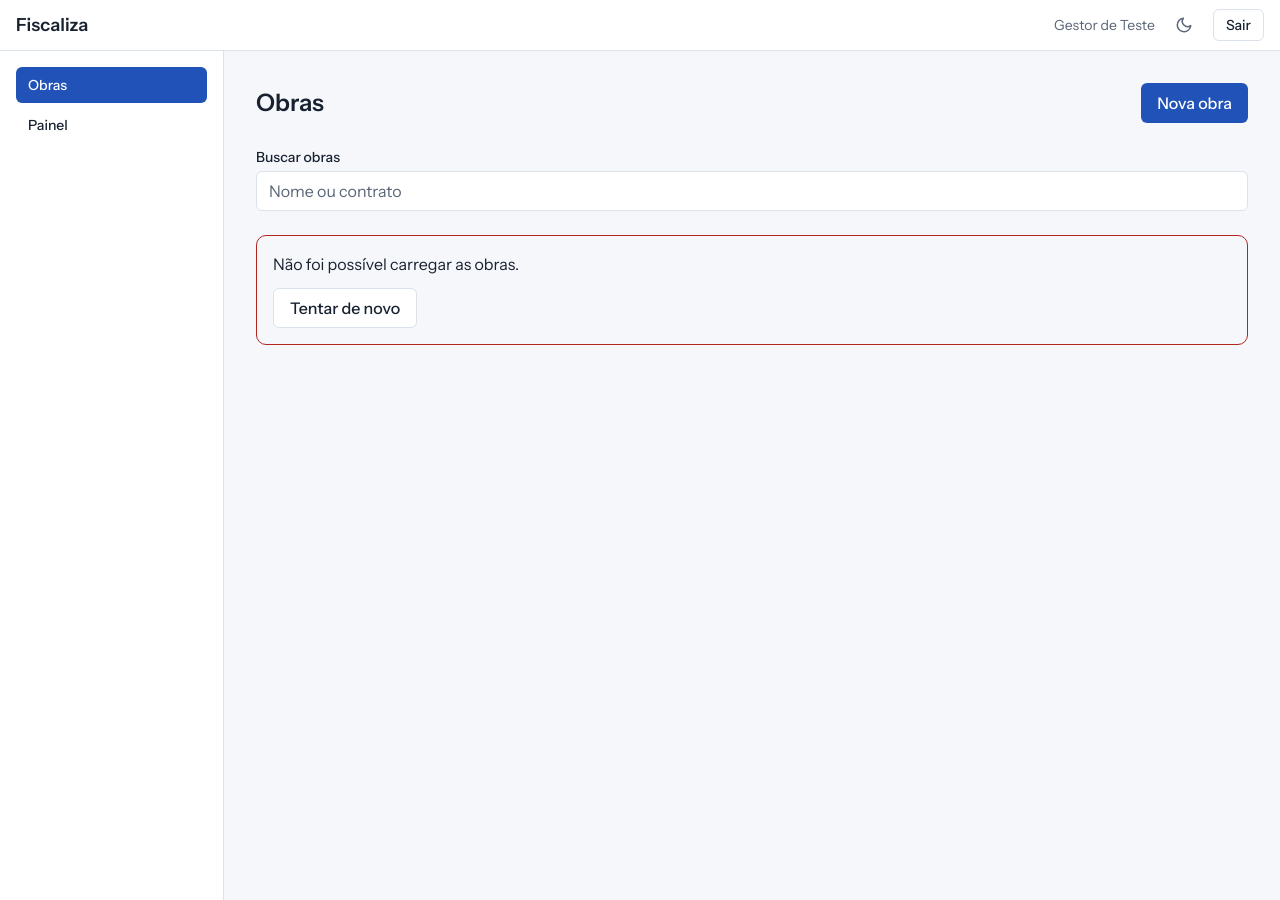
AppRoutes › topbar › toggles the theme and signs out back to /sign-in
Click the button named "Ativar tema" at (1184, 25), box [1167,8,1201,42]
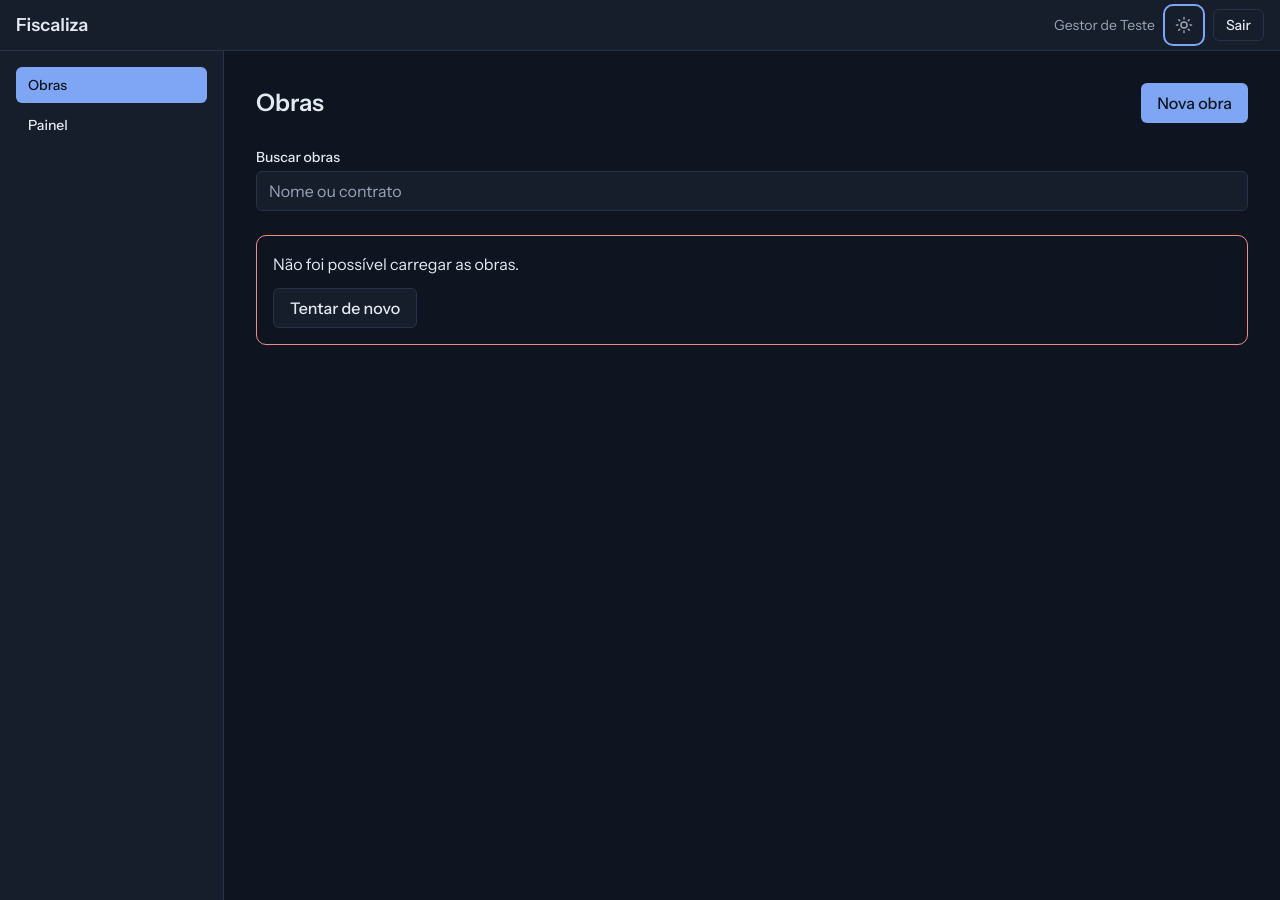
Click the button "Sair" at (1238, 25), box [1213,9,1264,41]
(page scrolled)
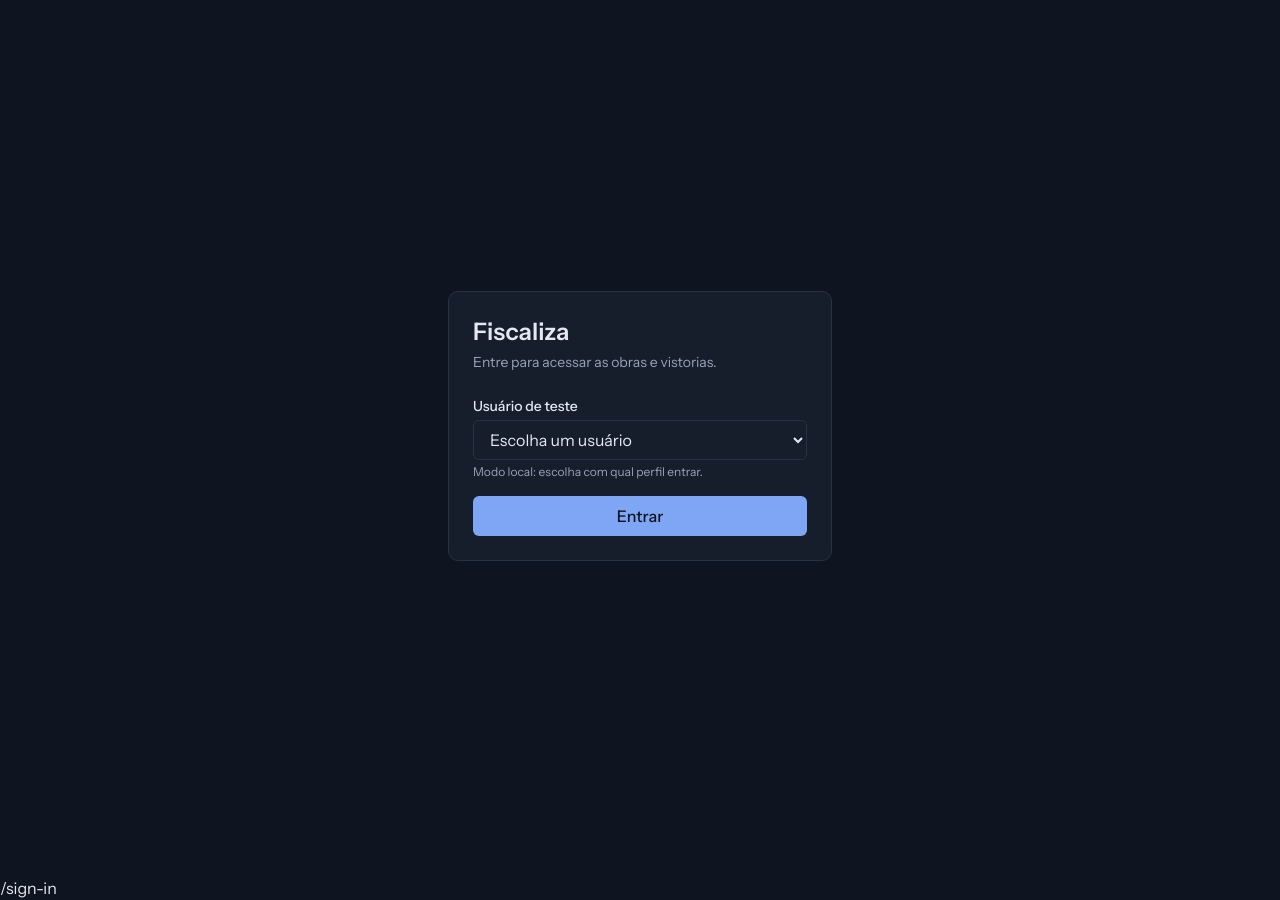
Expected: the text "/sign-in" is shown, [0,878,57,898]
